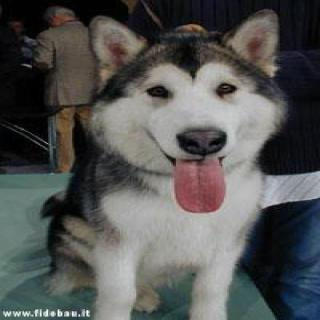dog: (76, 14, 289, 212)
nose: (174, 122, 231, 156)
